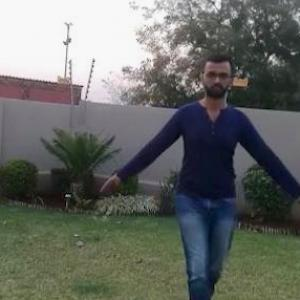land: (124, 65, 299, 299)
